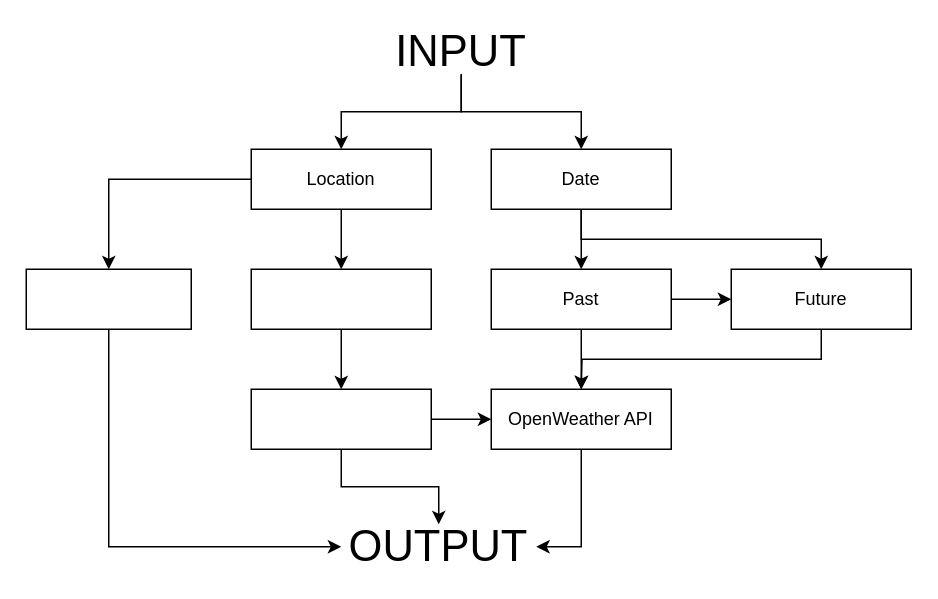
This 938x599 diagram has some shape labels left out. Each missing label, with the box of its shape:
Geonames API: (250, 268, 431, 329)
GPS Cordinates: (250, 388, 431, 449)
Pixabay API: (25, 268, 191, 329)
